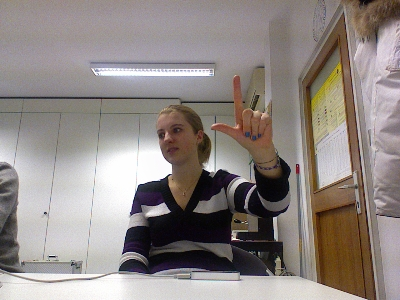枪: (209, 73, 275, 150)
